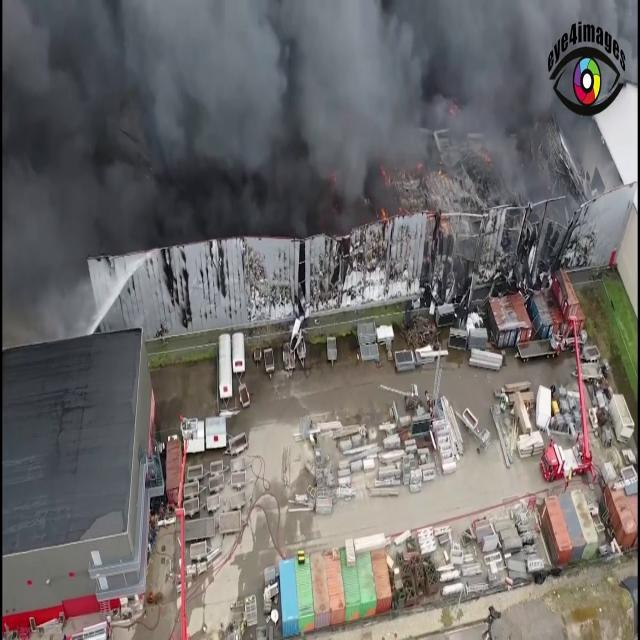Smoke: (4, 1, 602, 218)
